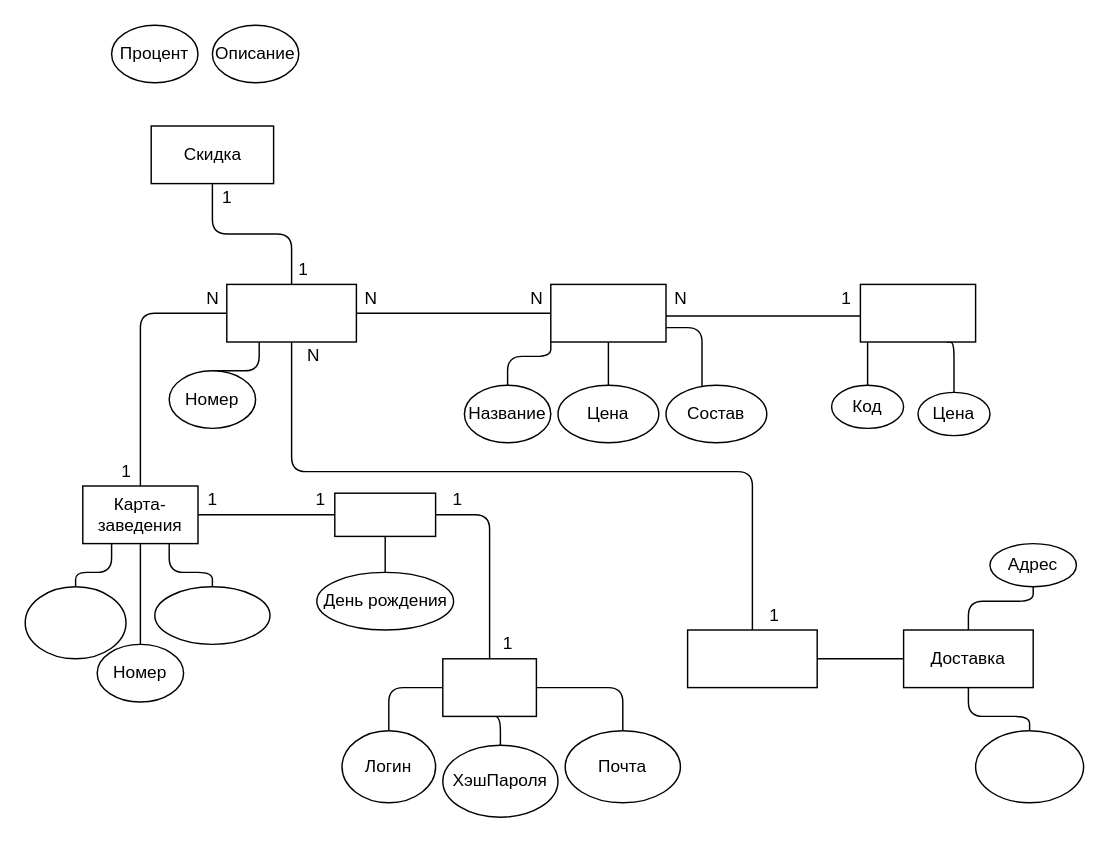
The diagram is 1109 pixels wide and 842 high, and some of its shapes have lost their labels. Each missing label, with the box of its shape:
Заказы: (225, 283, 356, 342)
Клиент: (333, 492, 436, 536)
Количество заказов: (153, 585, 270, 644)
Меню: (549, 283, 666, 342)
Накоплено: (24, 585, 126, 659)
Номер доставки: (974, 729, 1084, 803)
Промокоды: (859, 283, 976, 342)
Сотрудник: (686, 629, 817, 688)
Юзер: (441, 657, 536, 716)
